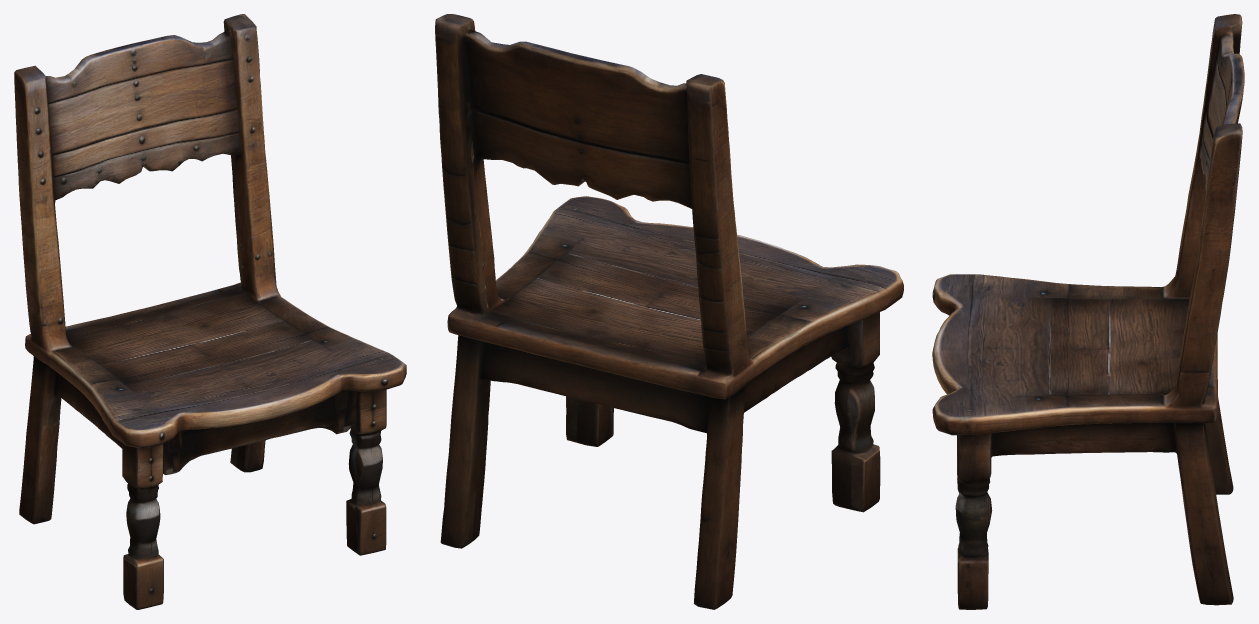
File: chair1.glb
3 renders of one model, left to right at view 1: azimuth 30°, elevation 25°; view 2: azimuth 150°, elevation 25°; view 3: azimuth 270°, elevation 25°, orthographic. The views are drawn at different scales.
Parts seen in each view (by area): view 1: Mesh1.0; view 2: Mesh1.0; view 3: Mesh1.0.
Boxes of the visible parts, bbox=[...] form: Mesh1.0: bbox=[14, 14, 406, 609]; Mesh1.0: bbox=[435, 14, 903, 609]; Mesh1.0: bbox=[932, 14, 1244, 609].
Size of the model in its own units: 0.789 by 1.19 by 0.7114.
1 material, 1 textured.
